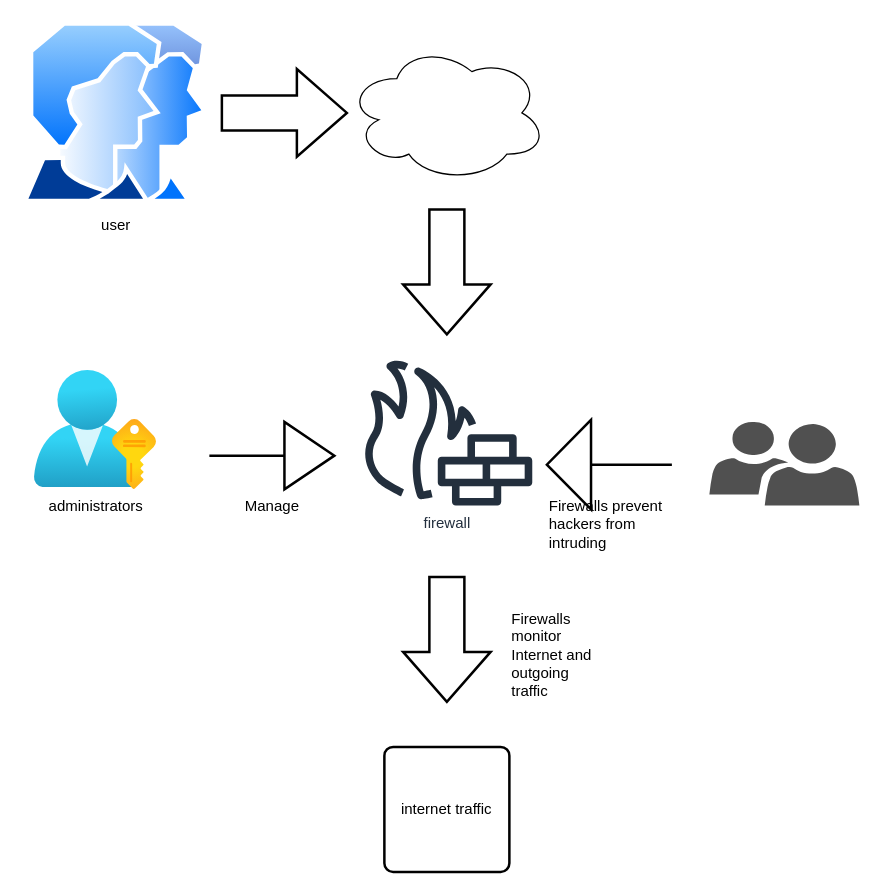
Image size: 880x894. Some labels were removed from this diagram. Here are the shapes that lost their labels. From the top down, the centre of each, then its label:
At pixel 446 112: "Cloud".
At pixel 784 463: "hacker".
